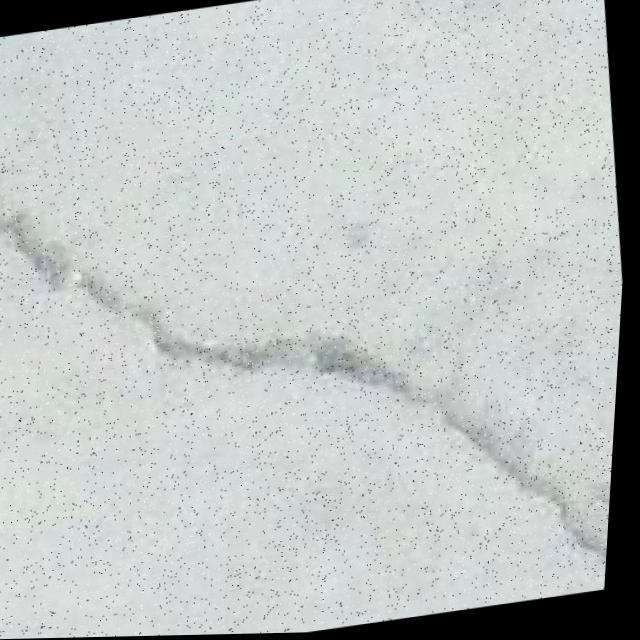Crack: (0, 106, 635, 640)
